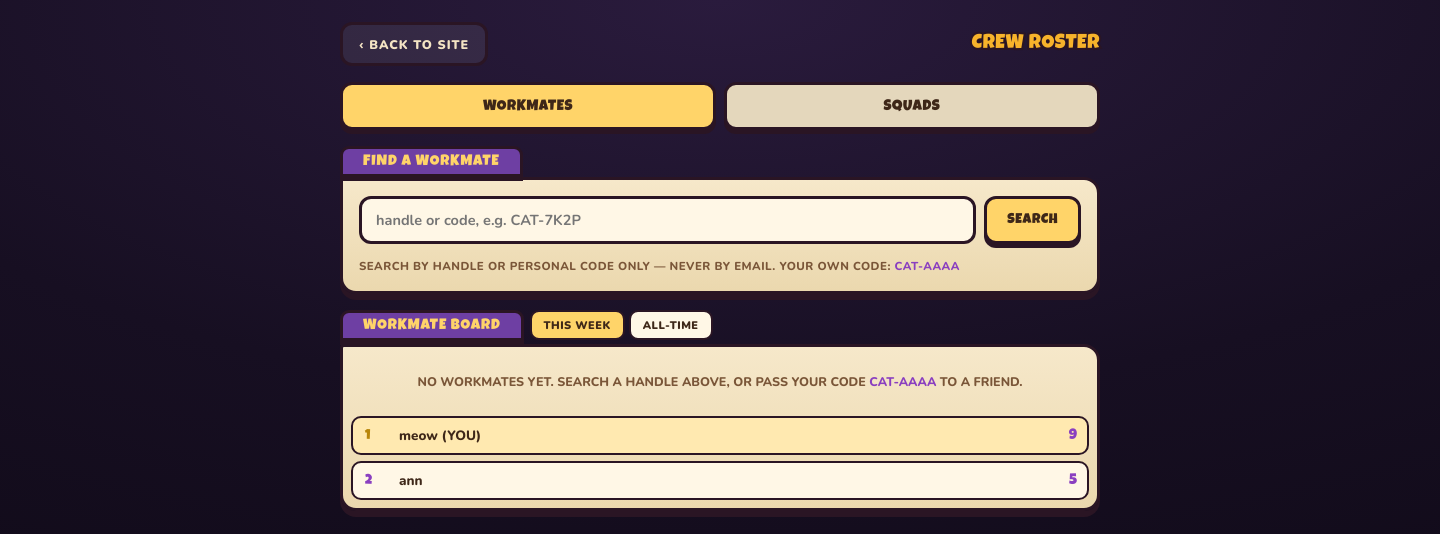
Test: Squads › lists your squads
Click the button "SQUADS" at [912, 106], box x1=724 y1=82 x2=1100 y2=130
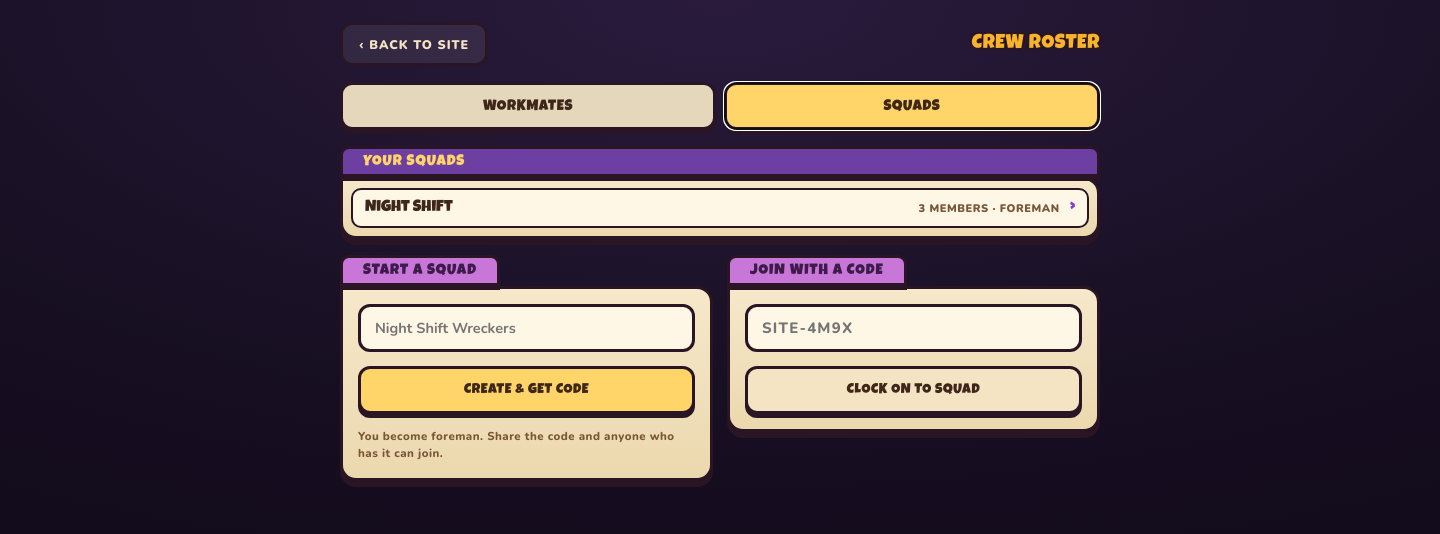
Expected: the text "Night Shift" is shown, x1=365 y1=200 x2=453 y2=216
Expected: the text "3 MEMBERS · FOREMAN" is shown, x1=918 y1=200 x2=1060 y2=216
